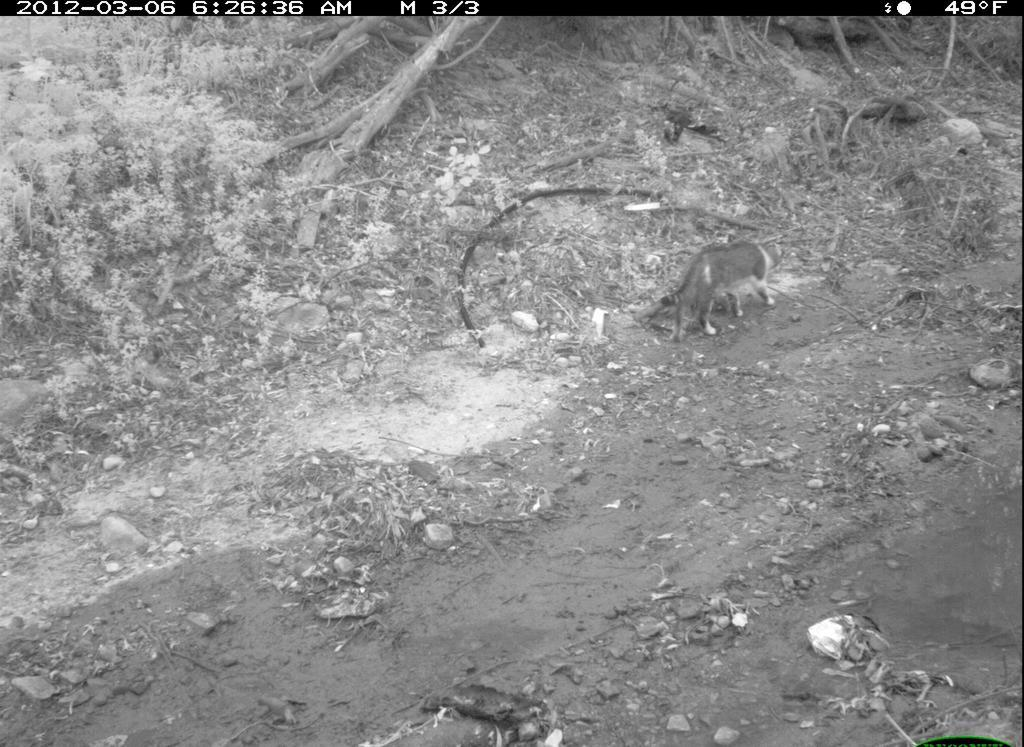cat: (651, 235, 783, 356)
